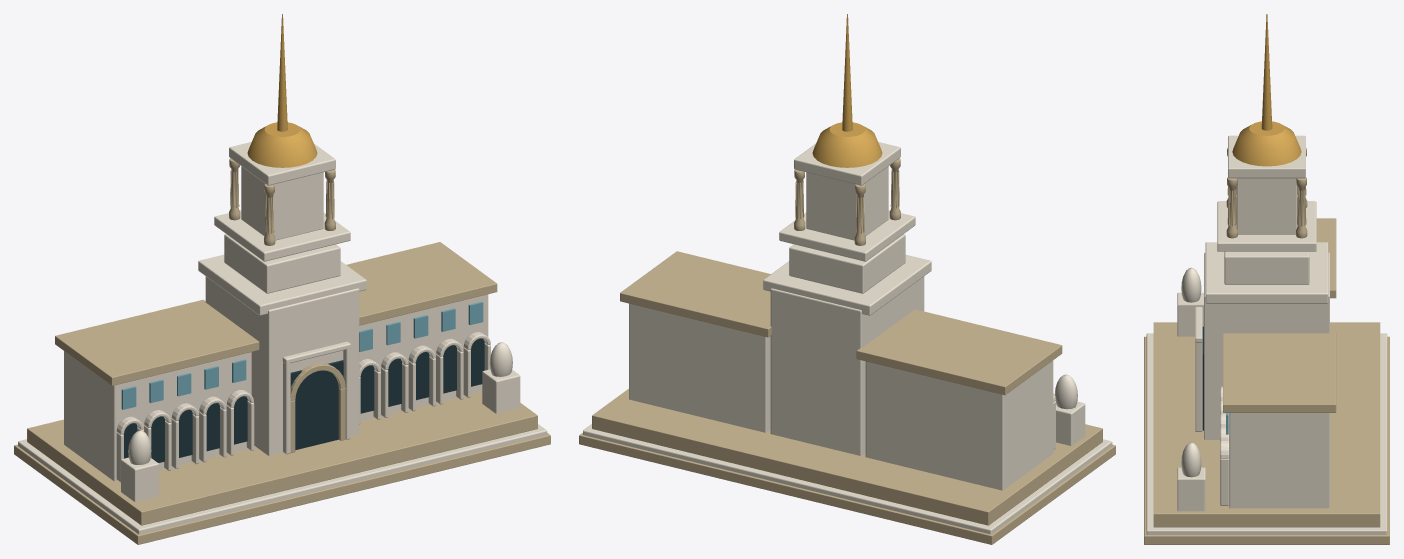
The model's file is sochi_port.glb.
3 renders of one model, left to right at view 1: azimuth 30°, elevation 25°; view 2: azimuth 150°, elevation 25°; view 3: azimuth 270°, elevation 25°, orthographic.
Visible parts, largest first — view 1: sochi_port_ivory, sochi_port_stone, sochi_port_ink, sochi_port_glass, sochi_port_gold; view 2: sochi_port_ivory, sochi_port_stone, sochi_port_gold; view 3: sochi_port_ivory, sochi_port_stone, sochi_port_gold.
Boxes of the visible parts, x1,y1,x2,y2 form: sochi_port_ivory: (18, 142, 547, 534); sochi_port_stone: (14, 158, 550, 544); sochi_port_ink: (123, 338, 484, 462); sochi_port_glass: (121, 301, 483, 409); sochi_port_gold: (247, 14, 317, 167); sochi_port_ivory: (583, 142, 1112, 534); sochi_port_stone: (579, 158, 1115, 544); sochi_port_gold: (812, 14, 882, 167); sochi_port_ivory: (1146, 135, 1387, 534); sochi_port_stone: (1144, 148, 1389, 544); sochi_port_gold: (1232, 14, 1301, 166).
Size of the model in its own units: 7.5 by 7.55 by 3.9.
